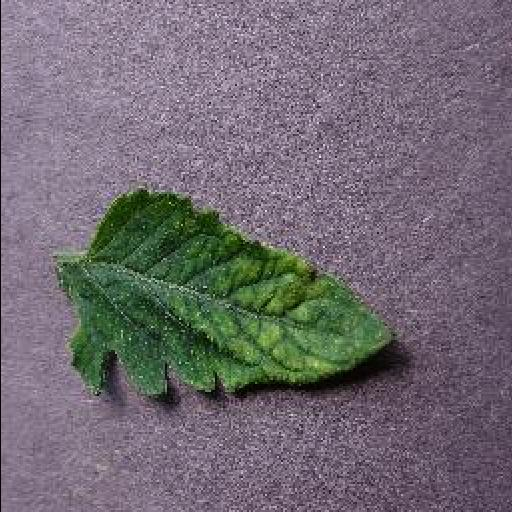Mosaic Virus: (62, 186, 402, 400)
